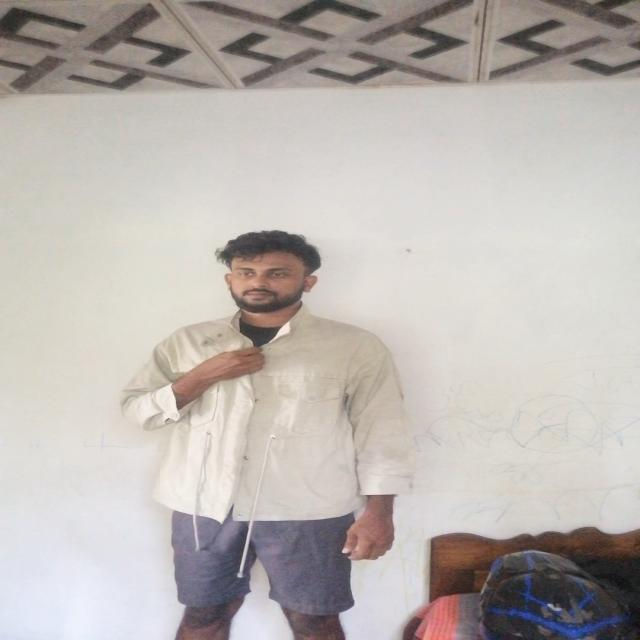Jacket_Wearer: (110, 304, 431, 537)
Person: (148, 226, 408, 640)
